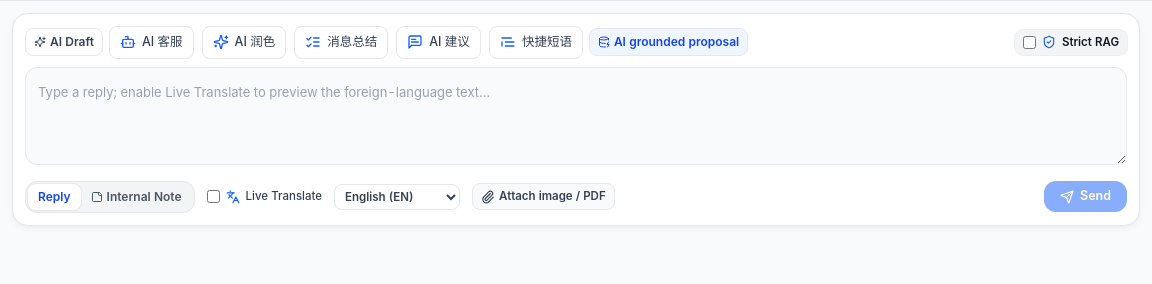
Test case: Track 2 · Inbox 『AI 查库生成提案』 trigger › surfaces a readable error when the proposal endpoint fails
Click the button with test id "propose-grounded-reply-btn" at (669, 42), box [589, 28, 748, 56]
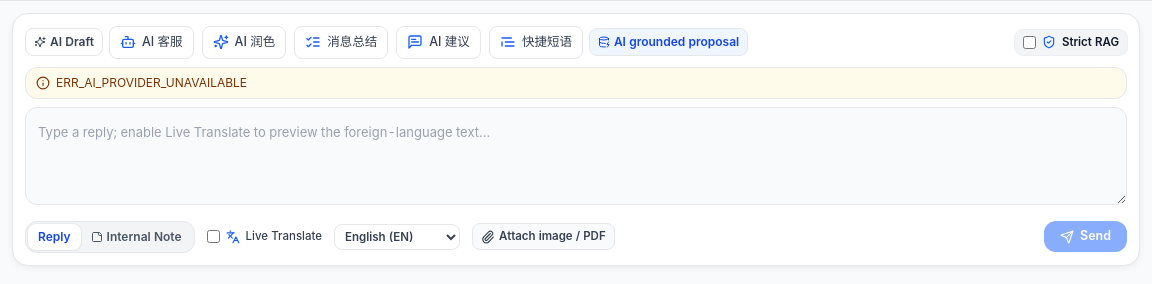
Check: the message with test id "composer-assist-error" reads "ERR_AI_PROVIDER_UNAVAILABLE", box [56, 75, 247, 90]
